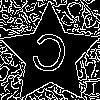C: (25, 30, 71, 85)
